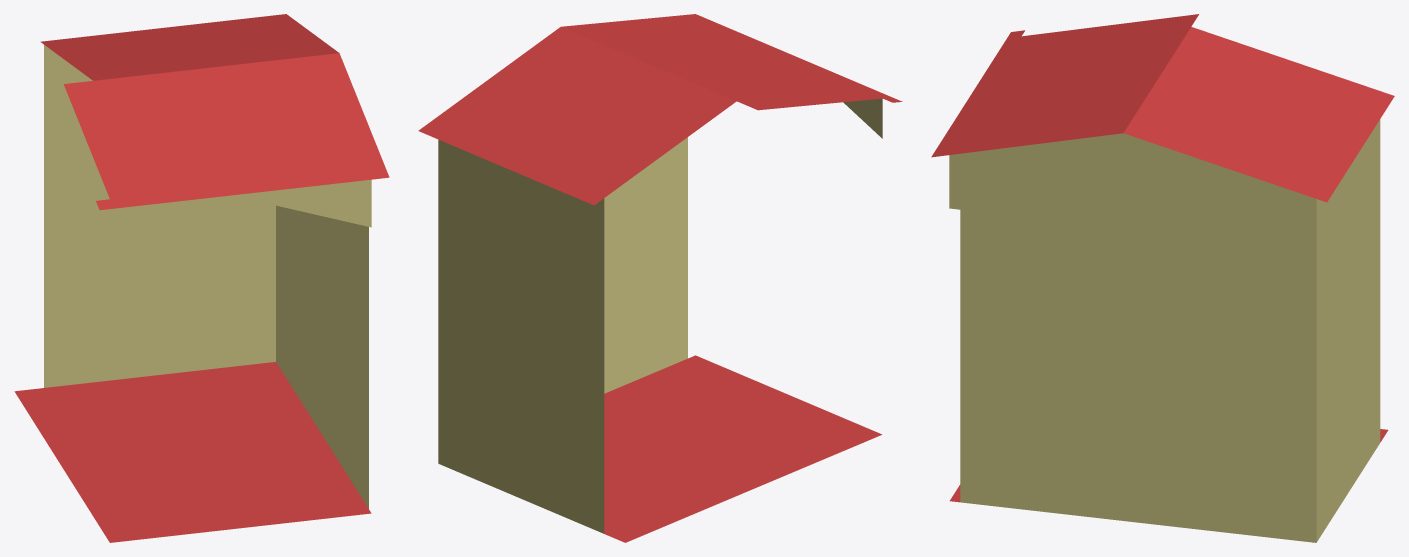
3 renders of one model, left to right at view 1: azimuth 30°, elevation 25°; view 2: azimuth 150°, elevation 25°; view 3: azimuth 270°, elevation 25°, orthographic. The views are drawn at different scales.
Size of the model in its own units: 13.44 by 15.46 by 14.5.
